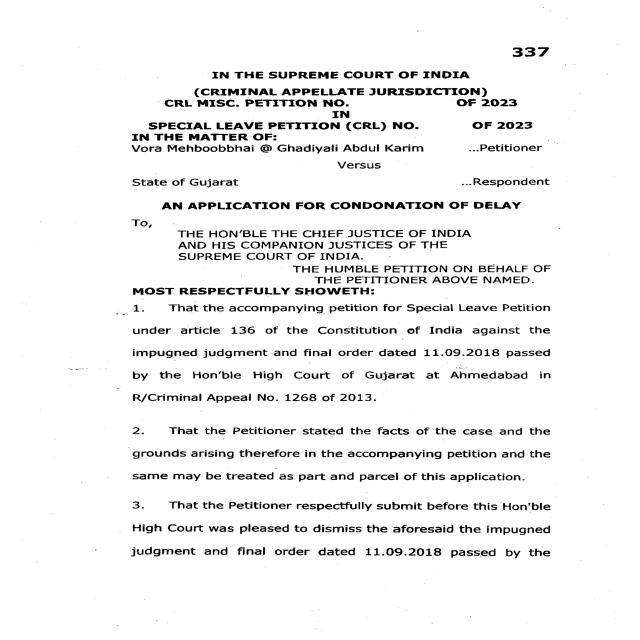page-number: (473, 0, 640, 77)
